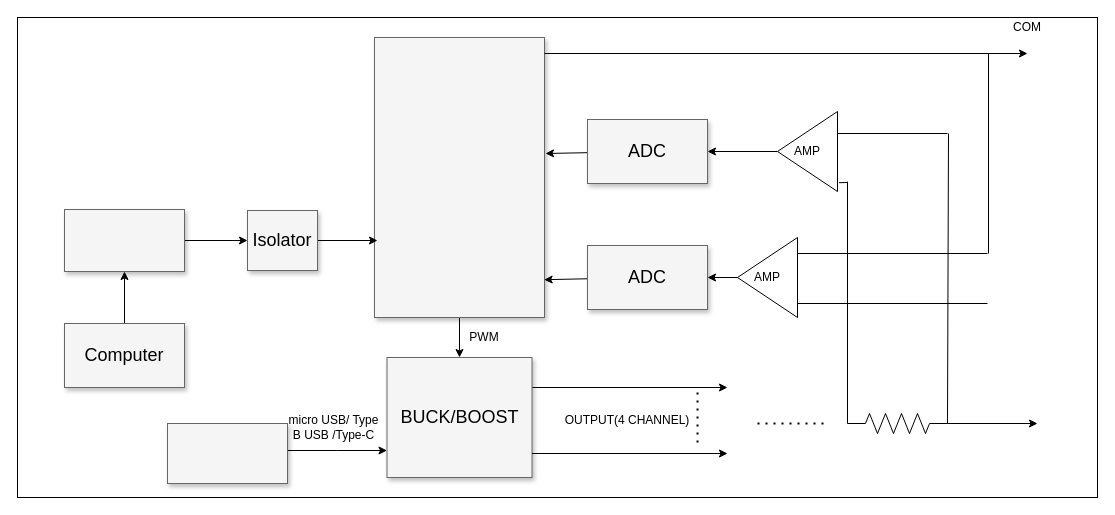
Image size: 1115x515. Some labels were removed from this diagram. The shapes that lost their labels are listed below. From the top down, each one's centre as x and y in pixels, then its label:
(460,178): MCU
(125,241): USB interface
(228,454): DC Power Supplies
